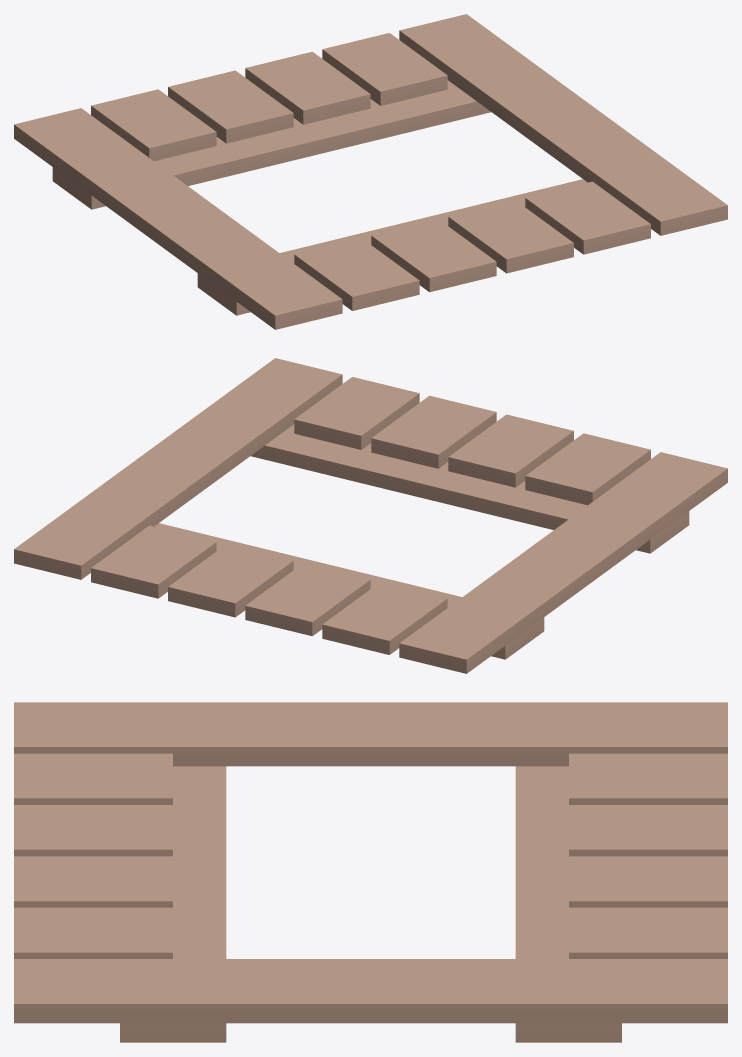
The model's file is planks-opening.glb.
The picture shows the model from 3 angles, top to bottom: view 1: azimuth 30°, elevation 25°; view 2: azimuth 150°, elevation 25°; view 3: azimuth 270°, elevation 25°; orthographic projection. The views are drawn at different scales.
Visible parts, largest first — view 1: planks-opening; view 2: planks-opening; view 3: planks-opening.
Part boxes in pixels (left/top/right/bottom): planks-opening: left=14, top=14, right=727, bottom=329; planks-opening: left=14, top=358, right=727, bottom=673; planks-opening: left=14, top=702, right=727, bottom=1042.
Size of the model in its own units: 1 by 0.06 by 1.
